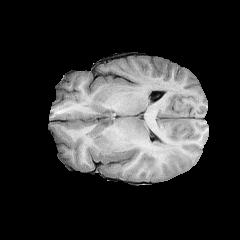glioma: (142, 78, 193, 167)
